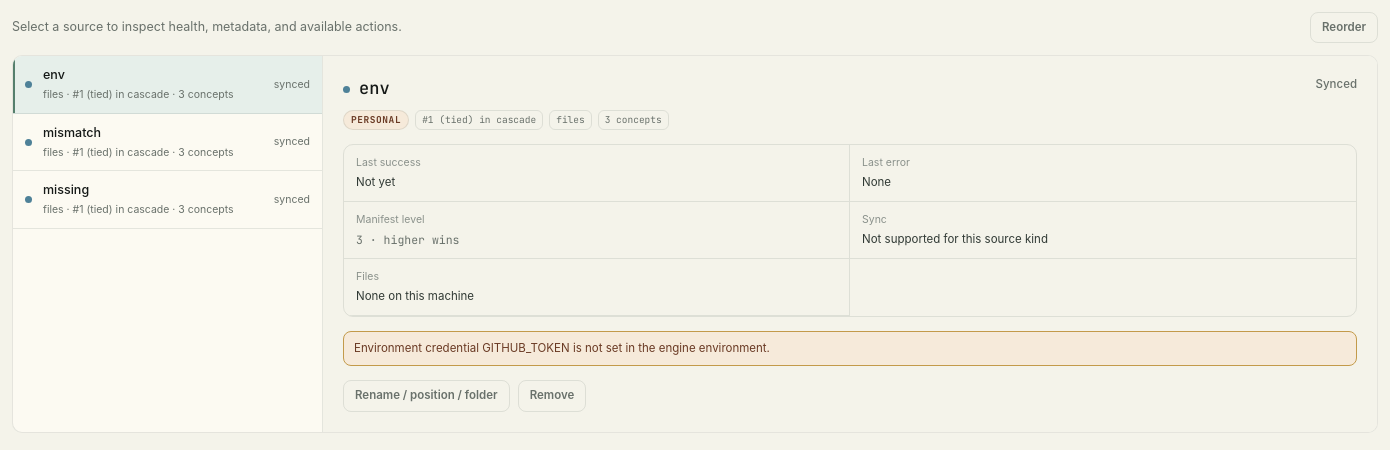
Test: Sources rows › surfaces missing and host-mismatched credentials without exposing a secret
Click the option "missing files · #1 (tied) in cascade · 3 concepts synced" at [168, 200], box x1=13 y1=171 x2=322 y2=229
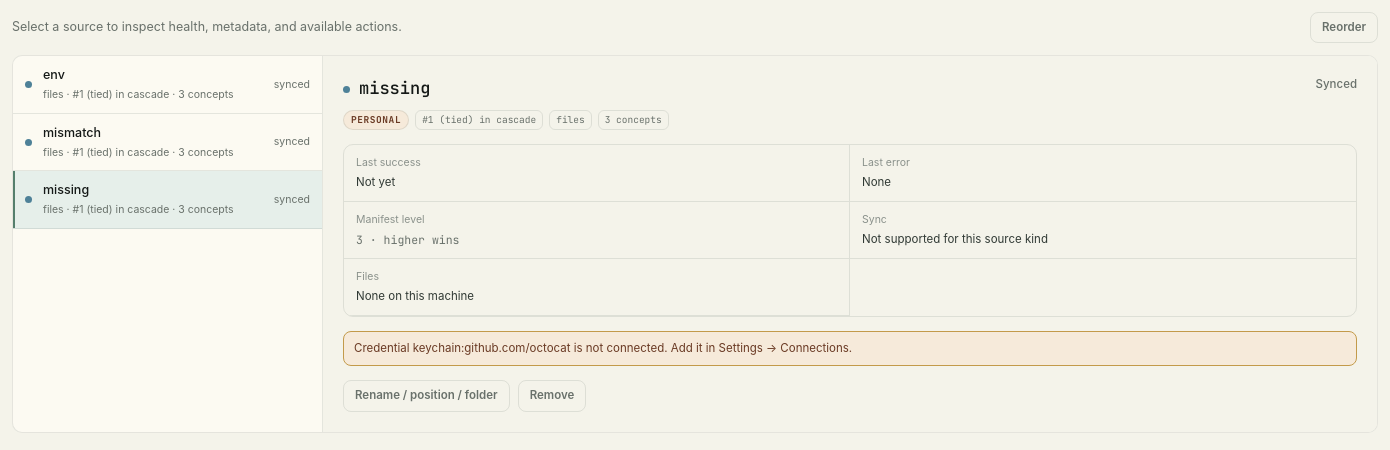
Result: the text "Credential keychain:github.com/octocat is not connected" is shown at x1=354 y1=341 x2=852 y2=355
Click the option "mismatch files · #1 (tied) in cascade · 3 concepts synced" at [168, 143], box x1=13 y1=114 x2=322 y2=171
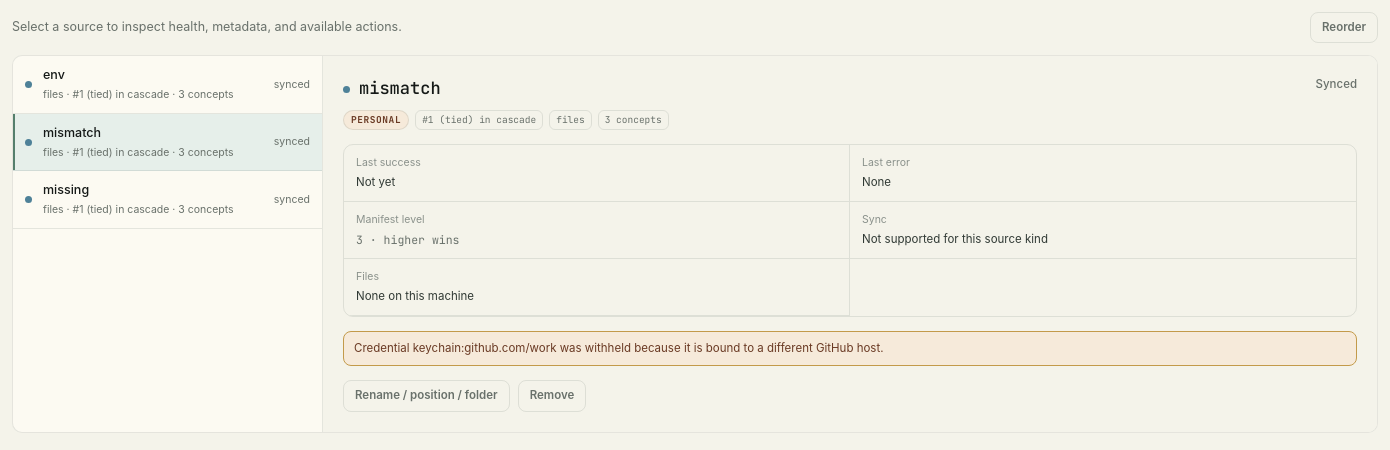
Result: the text "bound to a different GitHub host" is shown at x1=354 y1=341 x2=884 y2=355
Click the option "env files · #1 (tied) in cascade · 3 concepts synced" at [168, 85], box x1=13 y1=56 x2=322 y2=114
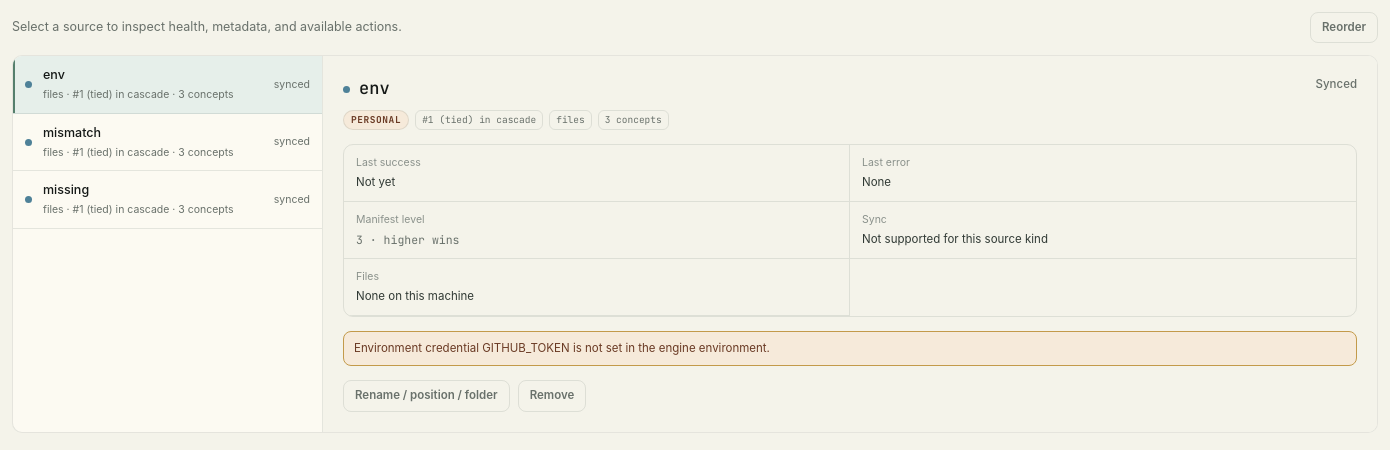
Result: the text "Environment credential GITHUB_TOKEN is not set" is shown at x1=354 y1=341 x2=770 y2=355
